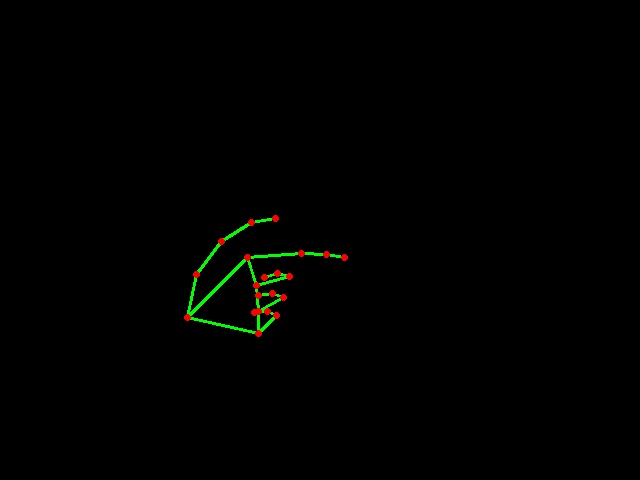left: (171, 206, 353, 352)
